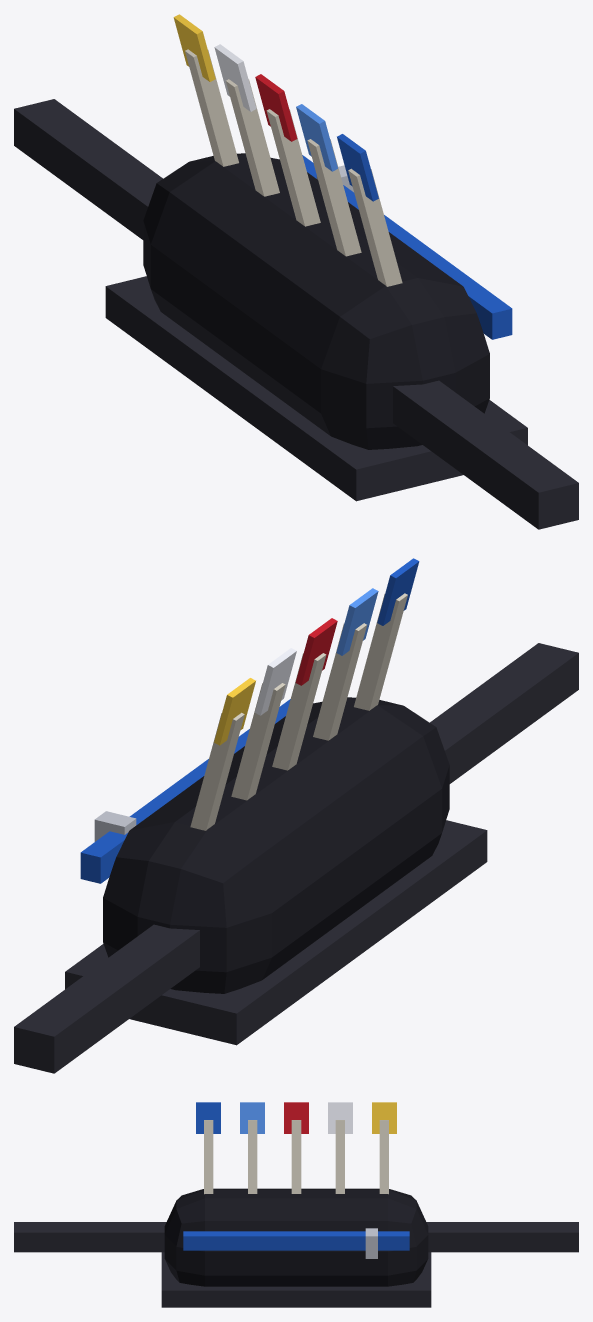
The model's file is banane.glb.
3 renders of one model, top to bottom at view 1: azimuth 30°, elevation 25°; view 2: azimuth 150°, elevation 25°; view 3: azimuth 270°, elevation 25°, orthographic. The views are drawn at different scales.
Parts seen in each view (by area): view 1: p_rbox.572, p_box.3511, p_box.3510, p_box.3508, p_box.3512, p_box.3520, p_box.3514, p_box.3516, p_box.3518, p_box.3521, p_box.3513, p_box.3515 (+2 smaller); view 2: p_rbox.572, p_box.3511, p_box.3510, p_box.3508, p_box.3520, p_box.3512, p_box.3518, p_box.3514, p_box.3516, p_box.3513, p_box.3521, p_box.3519 (+3 smaller); view 3: p_rbox.572, p_box.3511, p_box.3510, p_box.3508, p_box.3516, p_box.3512, p_box.3520, p_box.3514, p_box.3518, p_box.3513, p_box.3515, p_box.3517 (+3 smaller).
Boxes of the visible parts, box(x1,y1,x2,y2) form: p_rbox.572: box(143, 153, 489, 449); p_box.3511: box(14, 99, 578, 529); p_box.3510: box(105, 276, 527, 501); p_box.3508: box(302, 155, 512, 339); p_box.3512: box(348, 168, 402, 286); p_box.3520: box(185, 49, 238, 166); p_box.3514: box(307, 139, 361, 256); p_box.3516: box(266, 109, 320, 226); p_box.3518: box(226, 79, 279, 196); p_box.3521: box(173, 14, 215, 81); p_box.3513: box(337, 134, 378, 201); p_box.3515: box(296, 104, 337, 171); p_rbox.572: box(103, 697, 449, 993); p_box.3511: box(14, 643, 578, 1073); p_box.3510: box(65, 820, 487, 1045); p_box.3508: box(80, 699, 290, 883); p_box.3520: box(190, 712, 244, 830); p_box.3512: box(354, 593, 407, 710); p_box.3518: box(231, 683, 285, 800); p_box.3514: box(313, 623, 366, 740); p_box.3516: box(272, 653, 326, 770); p_box.3513: box(377, 558, 419, 625); p_box.3521: box(214, 678, 255, 745); p_box.3519: box(255, 648, 296, 715); p_rbox.572: box(164, 1188, 428, 1286); p_box.3511: box(14, 1222, 578, 1252); p_box.3510: box(161, 1252, 431, 1307); p_box.3508: box(183, 1231, 409, 1250); p_box.3516: box(291, 1120, 301, 1193); p_box.3512: box(204, 1120, 213, 1194); p_box.3520: box(379, 1120, 388, 1194); p_box.3514: box(248, 1120, 257, 1193); p_box.3518: box(335, 1120, 344, 1193); p_box.3513: box(196, 1102, 220, 1133); p_box.3515: box(240, 1102, 264, 1133); p_box.3517: box(284, 1102, 308, 1133).
Bounding box in the file's own units: 0.19 × 0.3099 × 0.9.
